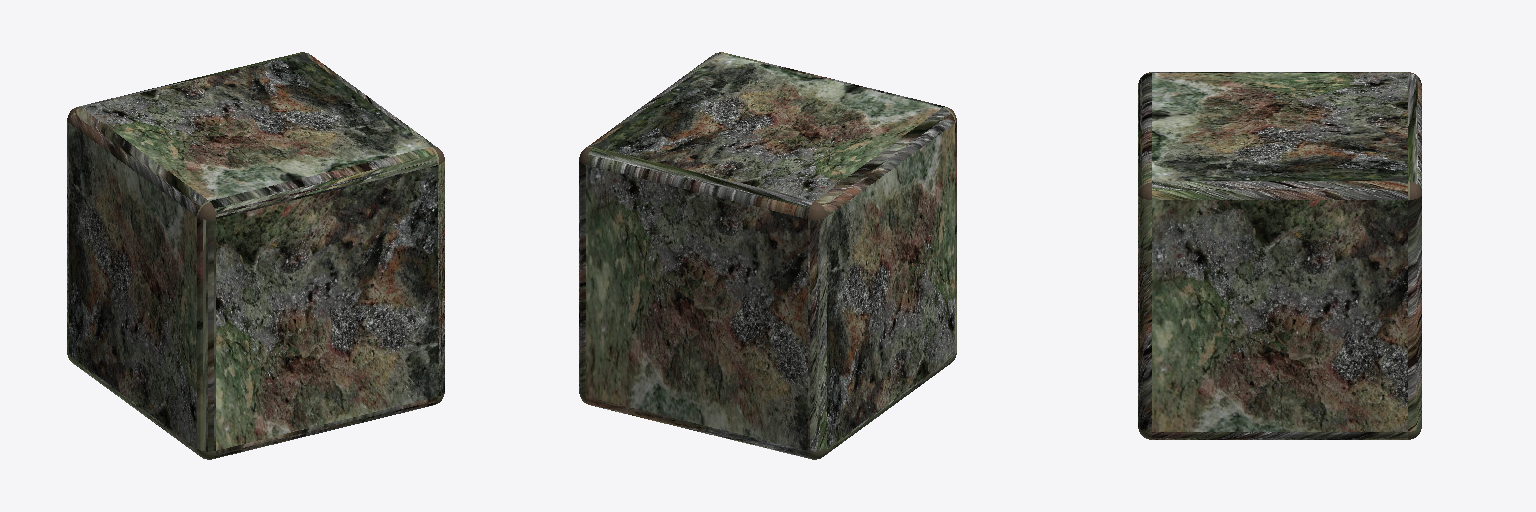
3 renders of one model, left to right at view 1: azimuth 30°, elevation 25°; view 2: azimuth 150°, elevation 25°; view 3: azimuth 270°, elevation 25°, orthographic.
Parts seen in each view (by area): view 1: Cube; view 2: Cube; view 3: Cube.
Part boxes in pixels (x1,y1,x2,y2): Cube: (67, 52, 444, 459); Cube: (579, 52, 956, 459); Cube: (1138, 72, 1421, 439).
Bounding box in the file's own units: 2 × 2 × 2.
1 materials, 1 textured.